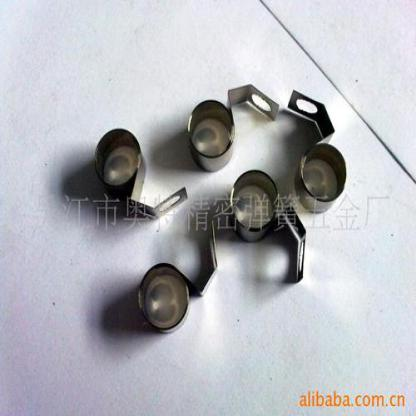FOD: (91, 123, 189, 222), (186, 84, 279, 174)
